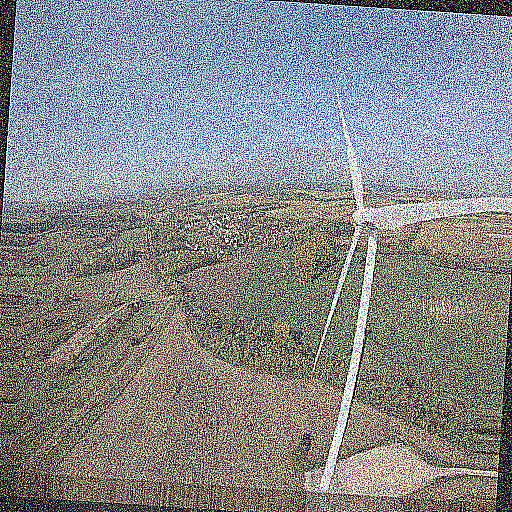wind turbine: (315, 93, 507, 497)
